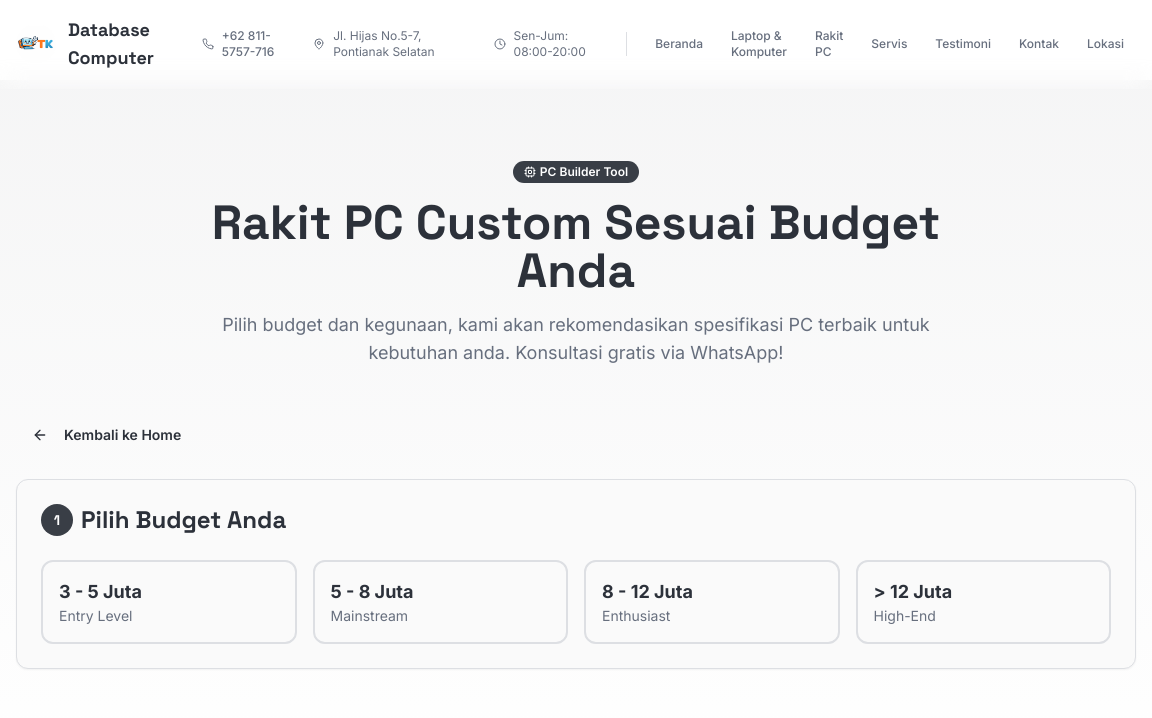
Scenario: PCBuilder › Disabled Use Case Buttons (Template Availability) › should enable all use cases for 5-8 Juta budget
// Select 5-8 Juta budget
Click the text "5 - 8 Juta". click: (372, 592)
box: [330,581,414,602]
(page scrolled)
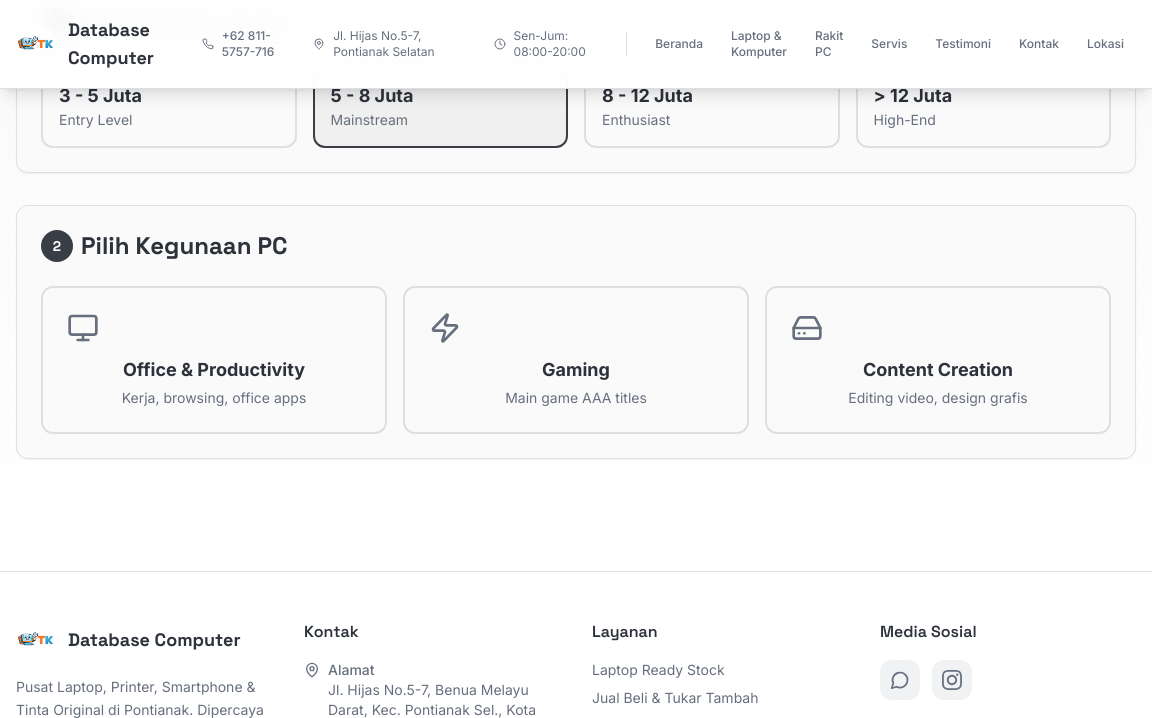
Expected: the button "Office & Productivity" is enabled, [41,286,387,434]
Expected: the button "Gaming Main game AAA titles" is enabled, [403,286,749,434]
Expected: the button "Content Creation" is enabled, [765,286,1111,434]
